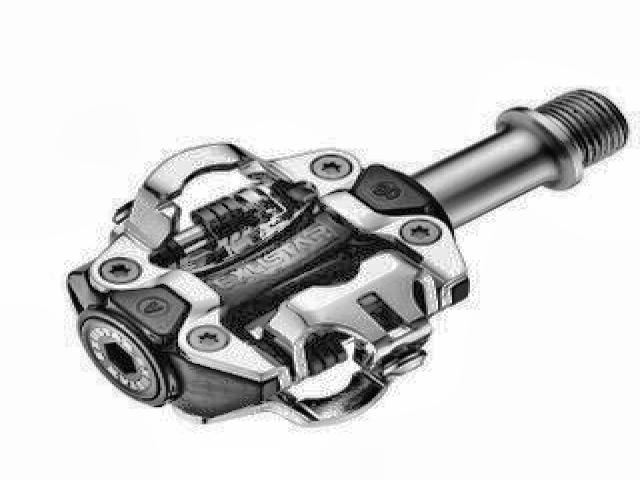pedal: (63, 85, 628, 431)
